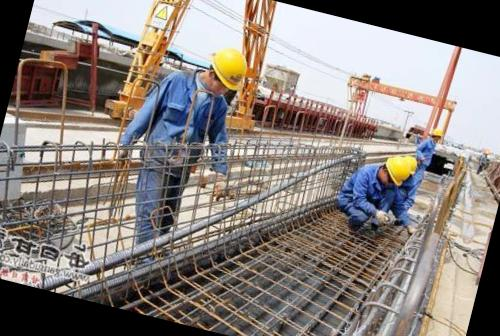person: (87, 28, 264, 293), (324, 144, 421, 241), (408, 126, 446, 198)
